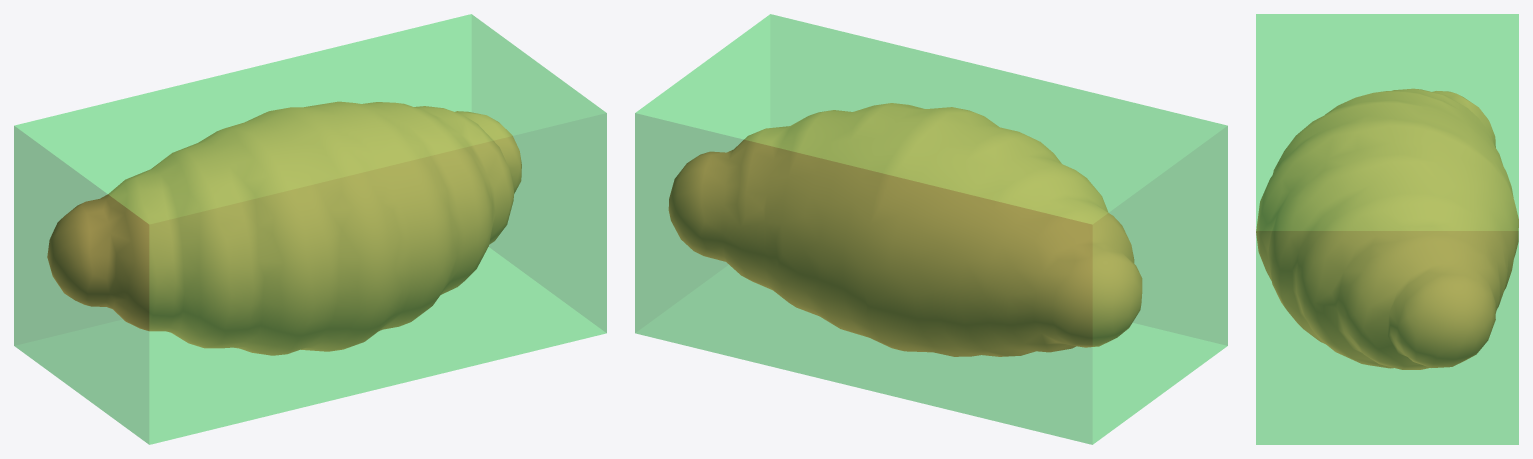
The model's file is Piece_04_Croissant.fbx.
3 views of the same model, side by side, from view 1: azimuth 30°, elevation 25°; view 2: azimuth 150°, elevation 25°; view 3: azimuth 270°, elevation 25° (orthographic). The views are drawn at different scales.
Visible parts, largest first — view 1: COL_Piece_04, Piece_04_Croissant; view 2: COL_Piece_04, Piece_04_Croissant; view 3: COL_Piece_04, Piece_04_Croissant.
Part boxes in pixels (box(x1,y1,x2,y2)): COL_Piece_04: box(14, 14, 606, 444); Piece_04_Croissant: box(47, 101, 521, 355); COL_Piece_04: box(635, 14, 1227, 444); Piece_04_Croissant: box(668, 103, 1142, 356); COL_Piece_04: box(1256, 14, 1518, 444); Piece_04_Croissant: box(1256, 88, 1518, 369).
Size of the model in its own units: 0.0797 by 0.0367 by 0.0408.
